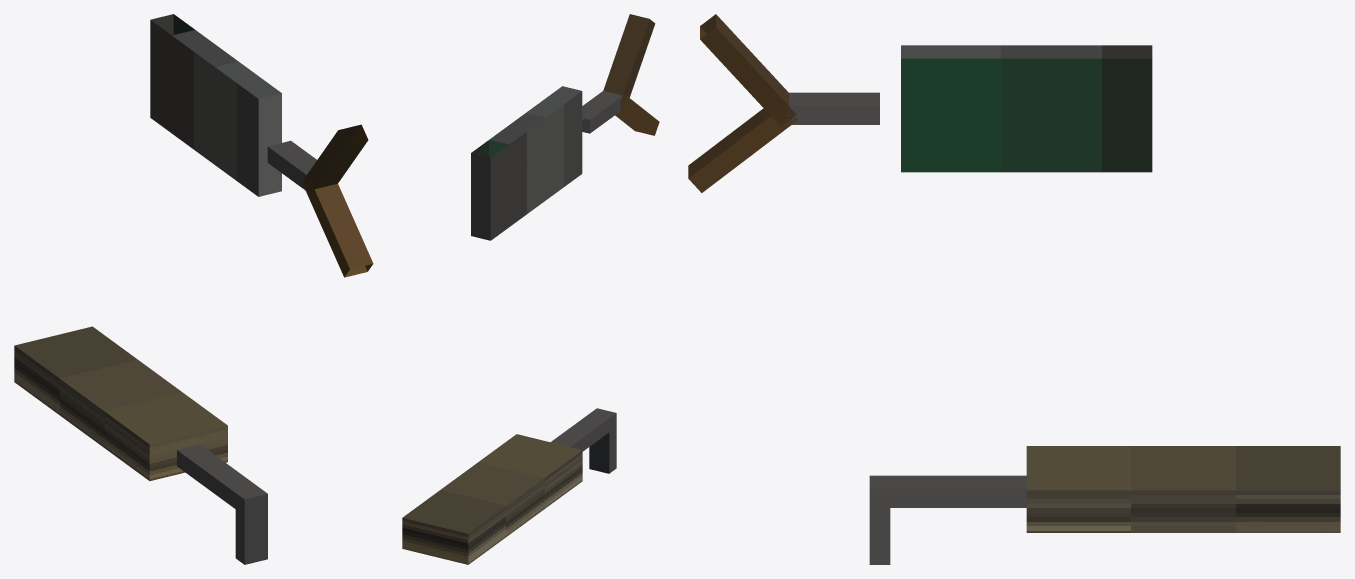
File: molniya_debris_servo.glb
3 renders of one model, left to right at view 1: azimuth 30°, elevation 25°; view 2: azimuth 150°, elevation 25°; view 3: azimuth 270°, elevation 25°, orthographic. The views are drawn at different scales.
Visible parts, largest first — view 1: airframe; view 2: airframe; view 3: airframe.
Part boxes in pixels (bbox=[...]): airframe: bbox=[14, 14, 373, 564]; airframe: bbox=[402, 14, 659, 564]; airframe: bbox=[688, 14, 1340, 564].
Bounding box in the file's own units: 0.0625 × 0.3644 × 0.3894.
1 material, 1 textured.
